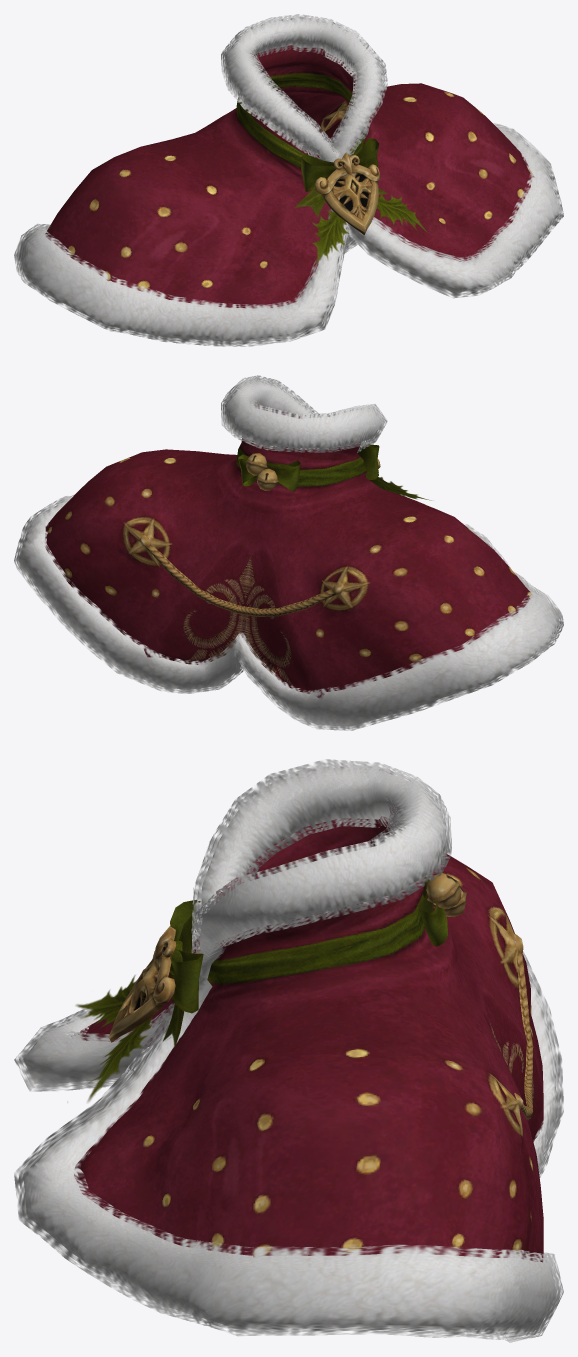
The model's file is xmas_shoulders_AR.glb.
3 views of the same model, one above another, from view 1: azimuth 30°, elevation 25°; view 2: azimuth 150°, elevation 25°; view 3: azimuth 270°, elevation 25° (orthographic). The views are drawn at different scales.
Visible parts, largest first — view 1: xmas_shoulders_AR; view 2: xmas_shoulders_AR; view 3: xmas_shoulders_AR.
Part boxes in pixels (<box>): xmas_shoulders_AR: <box>14,14,563,346</box>; xmas_shoulders_AR: <box>14,375,563,730</box>; xmas_shoulders_AR: <box>14,759,563,1342</box>.
Bounding box in the file's own units: 0.72 × 0.3847 × 0.4067.
3 materials, 3 textured.
